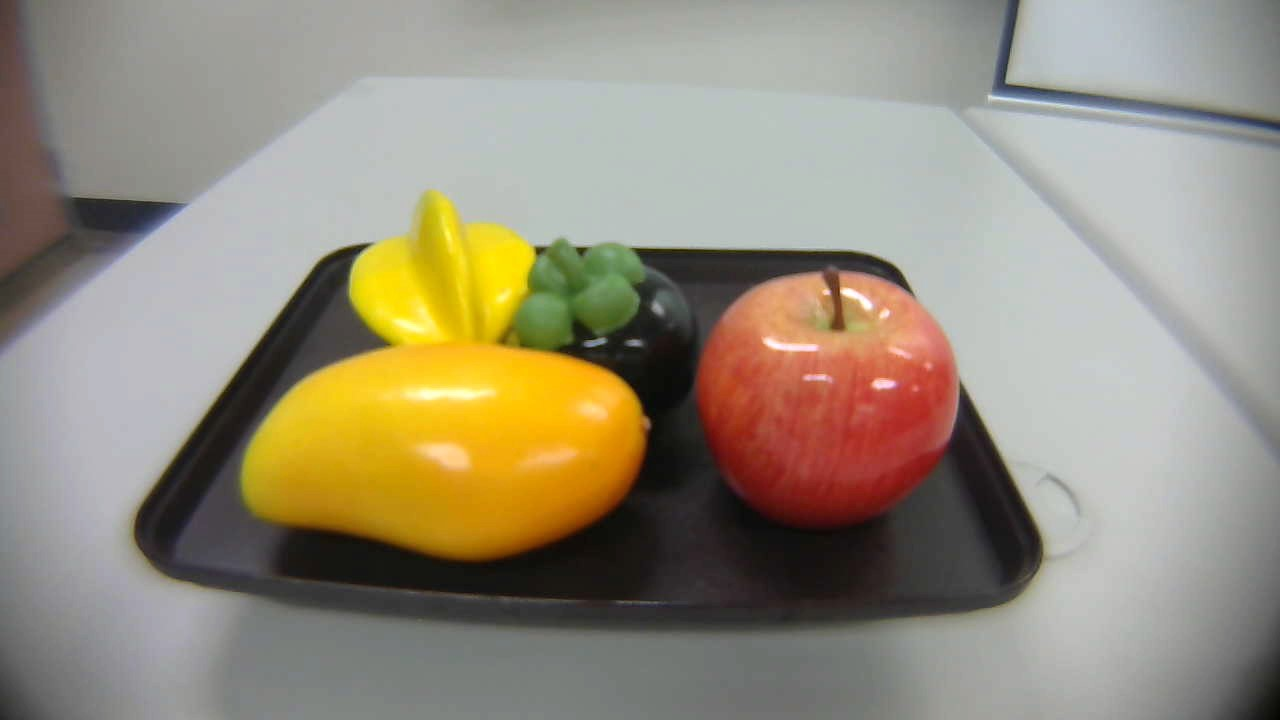mangosteen: (500, 224, 715, 441)
red apple: (680, 259, 978, 533)
star fruit: (337, 194, 547, 388)
yellow mango: (232, 336, 663, 569)
